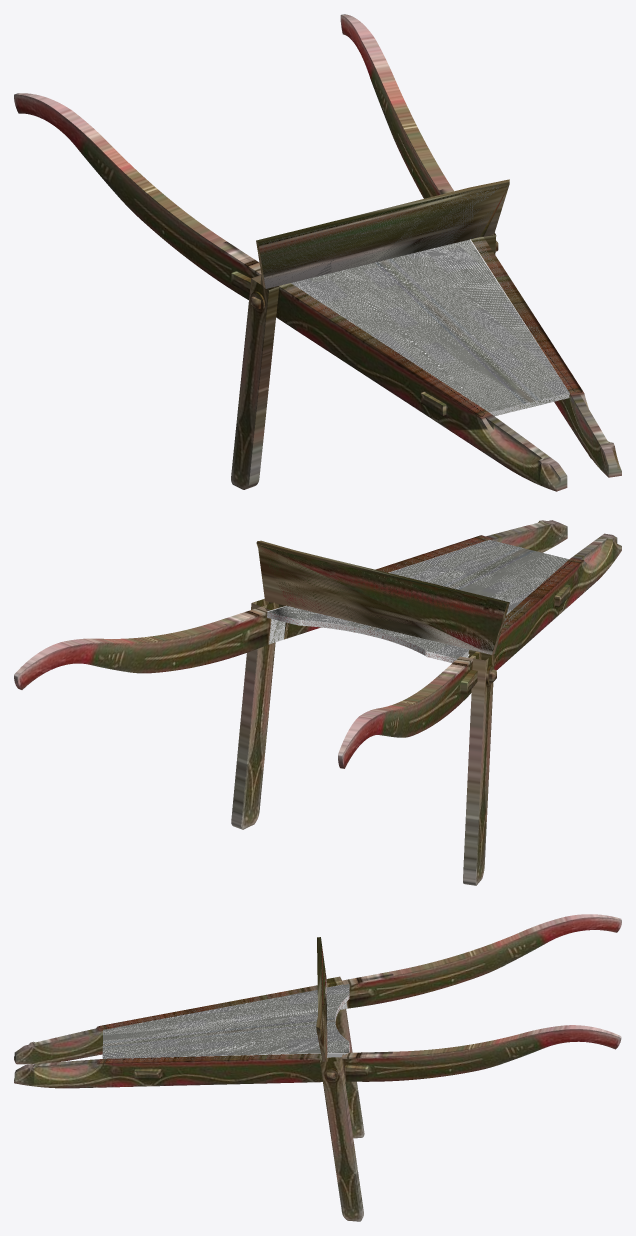
The model's file is original-1.obj.
The picture shows the model from 3 angles, top to bottom: view 1: azimuth 30°, elevation 25°; view 2: azimuth 150°, elevation 25°; view 3: azimuth 270°, elevation 25°; orthographic projection. The views are drawn at different scales.
Visible parts, largest first — view 1: mesh1/mesh1-geometry#mesh1-geometry; view 2: mesh1/mesh1-geometry#mesh1-geometry; view 3: mesh1/mesh1-geometry#mesh1-geometry.
Boxes of the visible parts, x1,y1,x2,y2 form: mesh1/mesh1-geometry#mesh1-geometry: [14, 14, 621, 491]; mesh1/mesh1-geometry#mesh1-geometry: [14, 520, 621, 885]; mesh1/mesh1-geometry#mesh1-geometry: [14, 914, 621, 1221].
Size of the model in its own units: 0.7606 by 0.6149 by 1.64.
